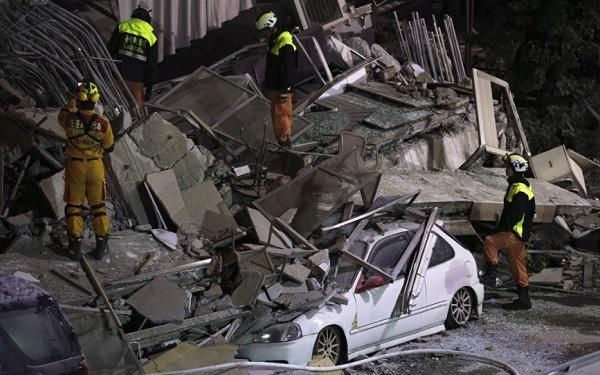victim: (55, 80, 117, 266), (479, 152, 540, 314), (251, 7, 300, 158), (104, 2, 159, 122)
